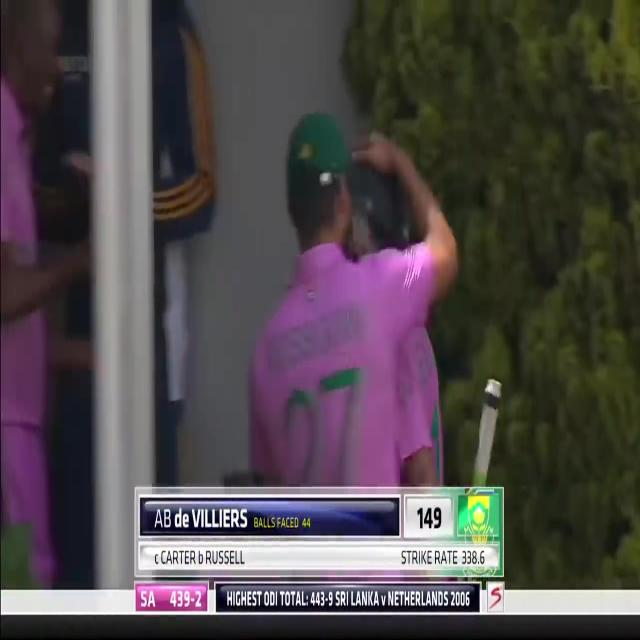Ball: (198, 18, 507, 490)
